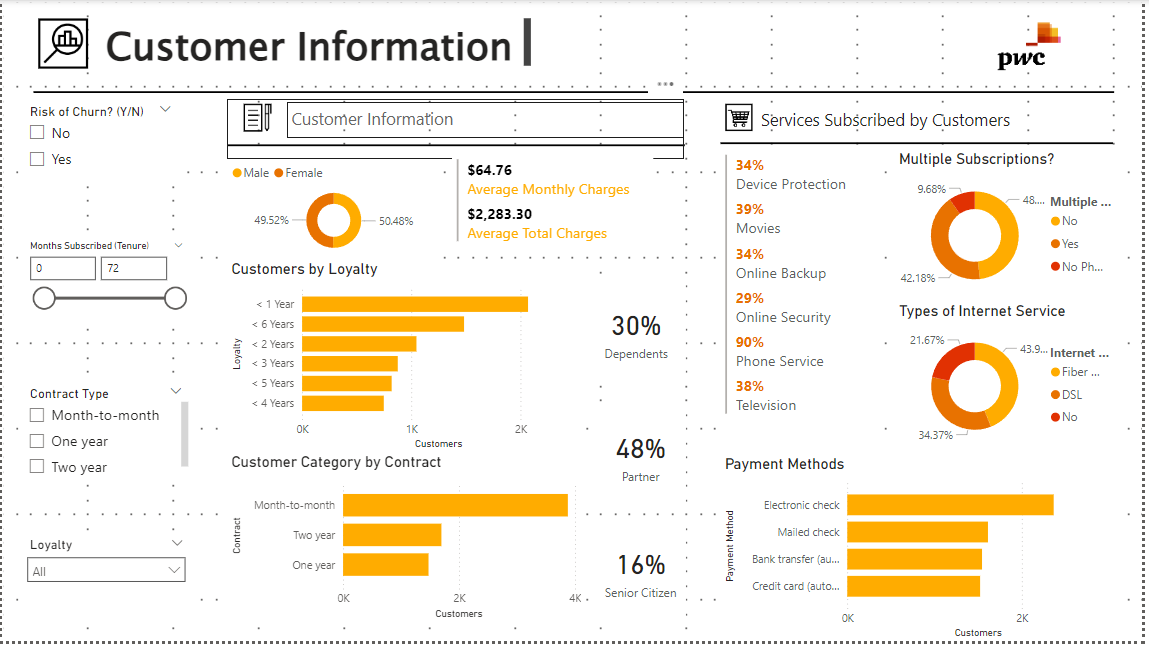

What the dashboard file says about the page in this screenshot:
{"tool":"powerbi","page":{"name":"Customer Information","canvas":[1280,720],"ordinal":1},"visuals":[{"type":"shape","box":[34.6,90.2,1213.4,25],"z":0},{"type":"textbox","box":[111.4,15.4,487.7,69.1],"z":1000},{"type":"image","box":[34.6,15.4,67.2,67.2],"z":2000},{"type":"image","box":[1052.2,0,201.6,103.7],"z":3000},{"type":"donutChart","title":"Customer Distribution","fields":{"Category":["tbl_ChurnData.Gender (M/F)"],"Y":["CountNonNull(tbl_ChurnData.CustomerID)"]},"box":[252.6,173.5,239.2,117.9],"z":4000},{"type":"group","id":"g1","title":"Group 2","box":[252.6,111.2,513.7,67.4],"z":5000},{"type":"textbox","box":[320.6,115.4,446.1,39.4],"z":6000,"group":"g1"},{"type":"card","fields":{"Values":["tbl_ChurnData.Num of Dependents"]},"box":[655.2,313.3,112.8,117.9],"z":6000},{"type":"image","box":[252.6,111.2,68,41.5],"z":7000,"group":"g1"},{"type":"card","fields":{"Values":["tbl_ChurnData.Num of Partner"]},"box":[665.3,451.4,102.7,117.9],"z":7000},{"type":"slicer","fields":{"Values":["tbl_ChurnData.Churn"]},"box":[18.5,111.2,183.6,90.9],"z":8000},{"type":"textbox","box":[847.8,116.2,307.7,37],"z":8000,"group":"g2"},{"type":"image","box":[806.7,111.2,41.1,42],"z":9000,"group":"g2"},{"type":"slicer","fields":{"Values":["tbl_ChurnData.Tenure"]},"box":[18.5,264.4,197.1,96],"z":9000},{"type":"slicer","fields":{"Values":["tbl_ChurnData.Contract"]},"box":[18.5,427.8,195.4,112.8],"z":10000},{"type":"slicer","fields":{"Values":["tbl_ChurnData.Loyalty"]},"box":[18.5,597.9,197.1,101.1],"z":11000},{"type":"card","fields":{"Values":["tbl_ChurnData.Num of Senior Citizen"]},"box":[665.3,581.1,102.7,117.9],"z":12000},{"type":"shape","box":[807,141.6,440.9,38.6],"z":13000,"group":"g2"},{"type":"clusteredBarChart","fields":{"Category":["tbl_ChurnData.Loyalty"],"Y":["Count(tbl_ChurnData.CustomerID)"]},"box":[252.6,291.4,402.5,217.3],"z":13000},{"type":"shape","box":[252.6,146.5,514.1,33.2],"z":13001,"group":"g1"},{"type":"group","id":"g2","title":"Group 1","box":[806.7,111.2,441.3,69.1],"z":14000},{"type":"clusteredBarChart","title":"Customer Category by Contract","fields":{"Category":["tbl_ChurnData.Contract"],"Y":["CountNonNull(tbl_ChurnData.CustomerID)"]},"box":[252.6,508.6,402.5,190.3],"z":15000},{"type":"multiRowCard","fields":{"Values":["tbl_ChurnData.Avg Monthly","tbl_ChurnData.Avg Total"]},"box":[505.3,173.5,225.7,106.1],"z":16000},{"type":"multiRowCard","fields":{"Values":["tbl_ChurnData.Subs Device Protect","tbl_ChurnData.Subs Movies","tbl_ChurnData.Subs Online Backup","tbl_ChurnData.Subs Online Sec","tbl_ChurnData.Subs Phone Serv","tbl_ChurnData.Subs TV"]},"box":[806.7,168.4,175.2,340.2],"z":17000},{"type":"clusteredBarChart","title":"Payment Methods","fields":{"Category":["tbl_ChurnData.Payment Method"],"Y":["CountNonNull(tbl_ChurnData.CustomerID)"]},"box":[806.7,510.3,448,210.5],"z":18000},{"type":"donutChart","title":"Multiple Subscriptions?","fields":{"Category":["tbl_ChurnData.Multiple Lines"],"Y":["CountNonNull(tbl_ChurnData.CustomerID)"]},"box":[1002.1,168.4,252.6,171.8],"z":19000},{"type":"donutChart","title":"Types of Internet Service","fields":{"Category":["tbl_ChurnData.Internet Service"],"Y":["CountNonNull(tbl_ChurnData.CustomerID)"]},"box":[1002.1,338.5,252.6,170.1],"z":20000}]}

Visuals, with their boxes in screenshot pixels (x1, y1, x2, y2), scaled from the page's 1280x720 canvas onto the 1149x646 screenshot:
shape: box=[31, 81, 1120, 103]
textbox: box=[100, 14, 538, 76]
image: box=[31, 14, 91, 74]
image: box=[945, 0, 1125, 93]
"Customer Distribution" donutChart: box=[227, 156, 441, 261]
"Group 2" group: box=[227, 100, 688, 160]
textbox: box=[288, 104, 688, 139]
card - tbl_ChurnData.Num of Dependents: box=[588, 281, 689, 387]
image: box=[227, 100, 288, 137]
card - tbl_ChurnData.Num of Partner: box=[597, 405, 689, 511]
slicer - tbl_ChurnData.Churn: box=[17, 100, 181, 181]
textbox: box=[761, 104, 1037, 137]
image: box=[724, 100, 761, 137]
slicer - tbl_ChurnData.Tenure: box=[17, 237, 194, 323]
slicer - tbl_ChurnData.Contract: box=[17, 384, 192, 485]
slicer - tbl_ChurnData.Loyalty: box=[17, 536, 194, 627]
card - tbl_ChurnData.Num of Senior Citizen: box=[597, 521, 689, 627]
shape: box=[724, 127, 1120, 162]
clusteredBarChart - tbl_ChurnData.Loyalty x Count(tbl_ChurnData.CustomerID): box=[227, 261, 588, 456]
shape: box=[227, 131, 688, 161]
"Group 1" group: box=[724, 100, 1120, 162]
"Customer Category by Contract" clusteredBarChart: box=[227, 456, 588, 627]
multiRowCard - tbl_ChurnData.Avg Monthly x tbl_ChurnData.Avg Total: box=[454, 156, 656, 251]
multiRowCard - tbl_ChurnData.Subs Device Protect x tbl_ChurnData.Subs Movies: box=[724, 151, 881, 456]
"Payment Methods" clusteredBarChart: box=[724, 458, 1126, 645]
"Multiple Subscriptions?" donutChart: box=[900, 151, 1126, 305]
"Types of Internet Service" donutChart: box=[900, 304, 1126, 456]
